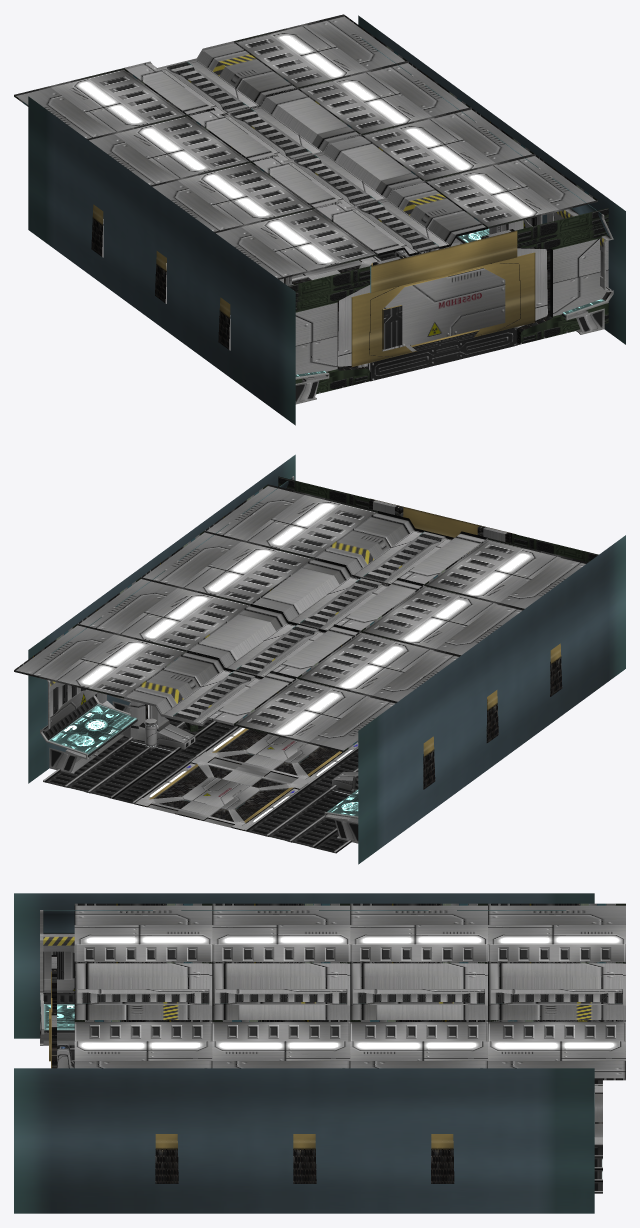
The picture shows the model from 3 angles, top to bottom: view 1: azimuth 30°, elevation 25°; view 2: azimuth 150°, elevation 25°; view 3: azimuth 270°, elevation 25°; orthographic projection. The views are drawn at different scales.
Visible parts, largest first — view 1: pPlane2, Main_Door, Side_Doors, Left_SideCeiling_Tile_20, Left_SideCeiling_Tile_17, MainCeiling_Tile_6, MainCeiling_Tile_3, MainCeiling_Tile_7, Left_SideCeiling_Tile_19, Left_SideCeiling_Tile_18, MainCeiling_Tile_4, Left_SideCeiling_Tile_06 (+7 smaller); view 2: pPlane2, MainCeiling_Tile_3, Left_SideCeiling_Tile_17, MainCeiling_Tile_6, MainCeiling_Tile_4, Left_SideCeiling_Tile_19, Left_SideCeiling_Tile_20, MainCeiling_Tile_7, Left_SideCeiling_Tile_18, MainFloor_Tile_03, Left_SideCeiling_Tile_06, MainCeiling_Tile7 (+11 smaller); view 3: pPlane2, Left_SideCeiling_Tile_15, Left_SideCeiling_Tile_16, Left_SideCeiling_Tile_06, Left_SideCeiling_Tile_14, MainCeiling_Tile_3, MainCeiling_Tile_7, MainCeiling_Tile_6, MainCeiling_Tile_4, Left_SideCeiling_Tile_17, Left_SideCeiling_Tile_19, Left_SideCeiling_Tile_20 (+8 smaller).
Boxes of the visible parts, x1,y1,x2,y2 form: pPlane2: (28,15,625,425); Main_Door: (351,230,535,381); Side_Doors: (288,208,608,394); Left_SideCeiling_Tile_20: (424,154,597,228); Left_SideCeiling_Tile_17: (234,14,407,88); MainCeiling_Tile_6: (314,180,487,256); MainCeiling_Tile_3: (124,41,297,115); MainCeiling_Tile_7: (251,134,423,207); Left_SideCeiling_Tile_19: (361,107,533,181); Left_SideCeiling_Tile_18: (297,61,470,134); MainCeiling_Tile_4: (187,87,360,161); Left_SideCeiling_Tile_06: (14,68,187,138); pPlane2: (28,454,625,864); MainCeiling_Tile_3: (124,650,297,726); Left_SideCeiling_Tile_17: (14,623,187,698); MainCeiling_Tile_6: (314,511,487,585); MainCeiling_Tile_4: (187,604,360,677); Left_SideCeiling_Tile_19: (141,531,314,603); Left_SideCeiling_Tile_20: (204,484,377,557); MainCeiling_Tile_7: (251,557,423,631); Left_SideCeiling_Tile_18: (78,577,250,650); MainFloor_Tile_03: (134,757,306,830); Left_SideCeiling_Tile_06: (234,677,397,752); MainCeiling_Tile7: (40,615,358,843); pPlane2: (14,893,594,1213); Left_SideCeiling_Tile_15: (212,903,350,963); Left_SideCeiling_Tile_16: (74,903,212,963); Left_SideCeiling_Tile_06: (488,903,625,963); Left_SideCeiling_Tile_14: (350,903,487,963); MainCeiling_Tile_3: (488,961,625,1021); MainCeiling_Tile_7: (212,961,350,1021); MainCeiling_Tile_6: (74,961,212,1021); MainCeiling_Tile_4: (350,961,487,1020); Left_SideCeiling_Tile_17: (488,1020,625,1080); Left_SideCeiling_Tile_19: (212,1020,350,1068); Left_SideCeiling_Tile_20: (74,1020,212,1068).
Bounding box in the file's own units: 18.29 × 6.98 × 26.64.
Materials: 1 (1 with a texture image).
